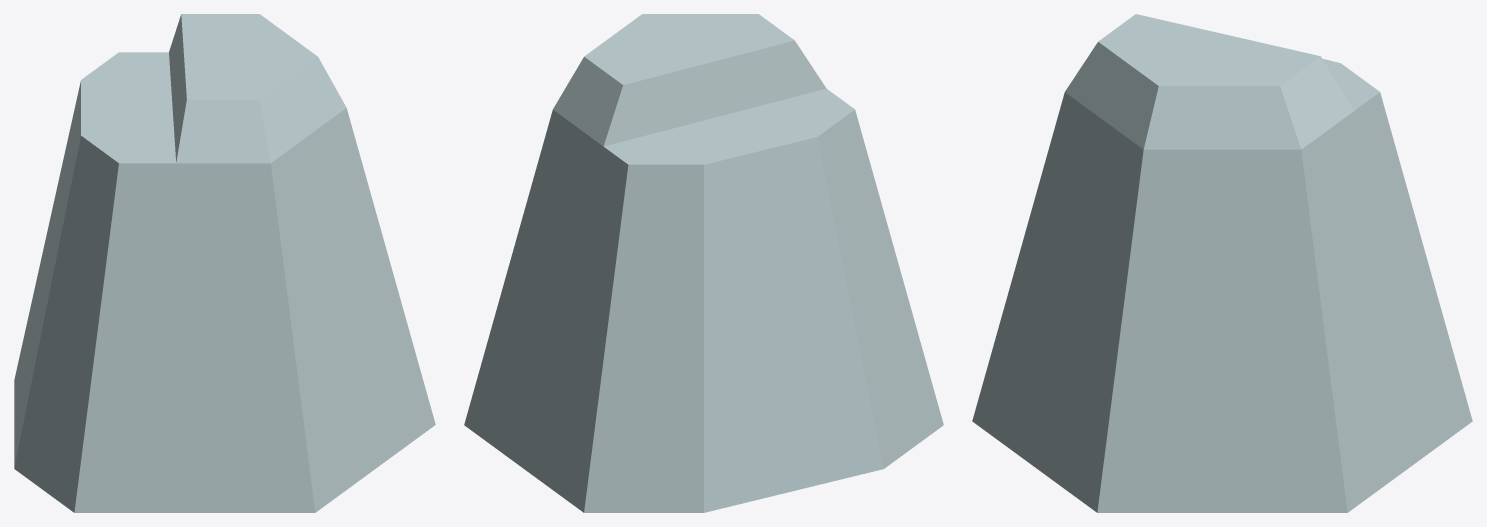
File: stone_tallE.gltf
The picture shows the model from 3 angles, left to right: view 1: azimuth 30°, elevation 25°; view 2: azimuth 150°, elevation 25°; view 3: azimuth 270°, elevation 25°; orthographic projection. The views are drawn at different scales.
Parts seen in each view (by area): view 1: stone_tallE; view 2: stone_tallE; view 3: stone_tallE.
Part boxes in pixels (x1,y1,x2,y2): stone_tallE: (14,14,435,512); stone_tallE: (464,14,943,512); stone_tallE: (972,14,1472,512).
Bounding box in the file's own units: 0.4562 × 0.4438 × 0.5268.
